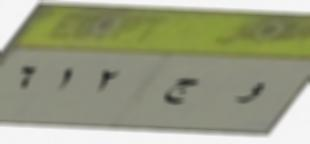1: (53, 61, 78, 97)
2: (96, 65, 124, 98)
6: (15, 60, 38, 96)
jeem: (161, 69, 198, 113)
waw: (235, 73, 265, 112)
